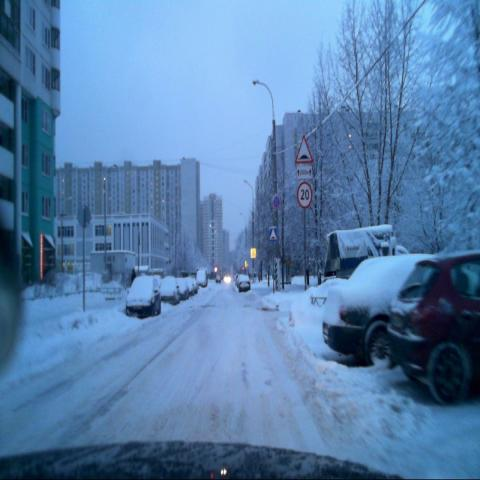1_17: (294, 134, 312, 162)
3_24: (296, 181, 311, 207)
3_27: (272, 193, 282, 209)
5_20: (268, 226, 279, 241)
8_2_1: (295, 163, 312, 179)
